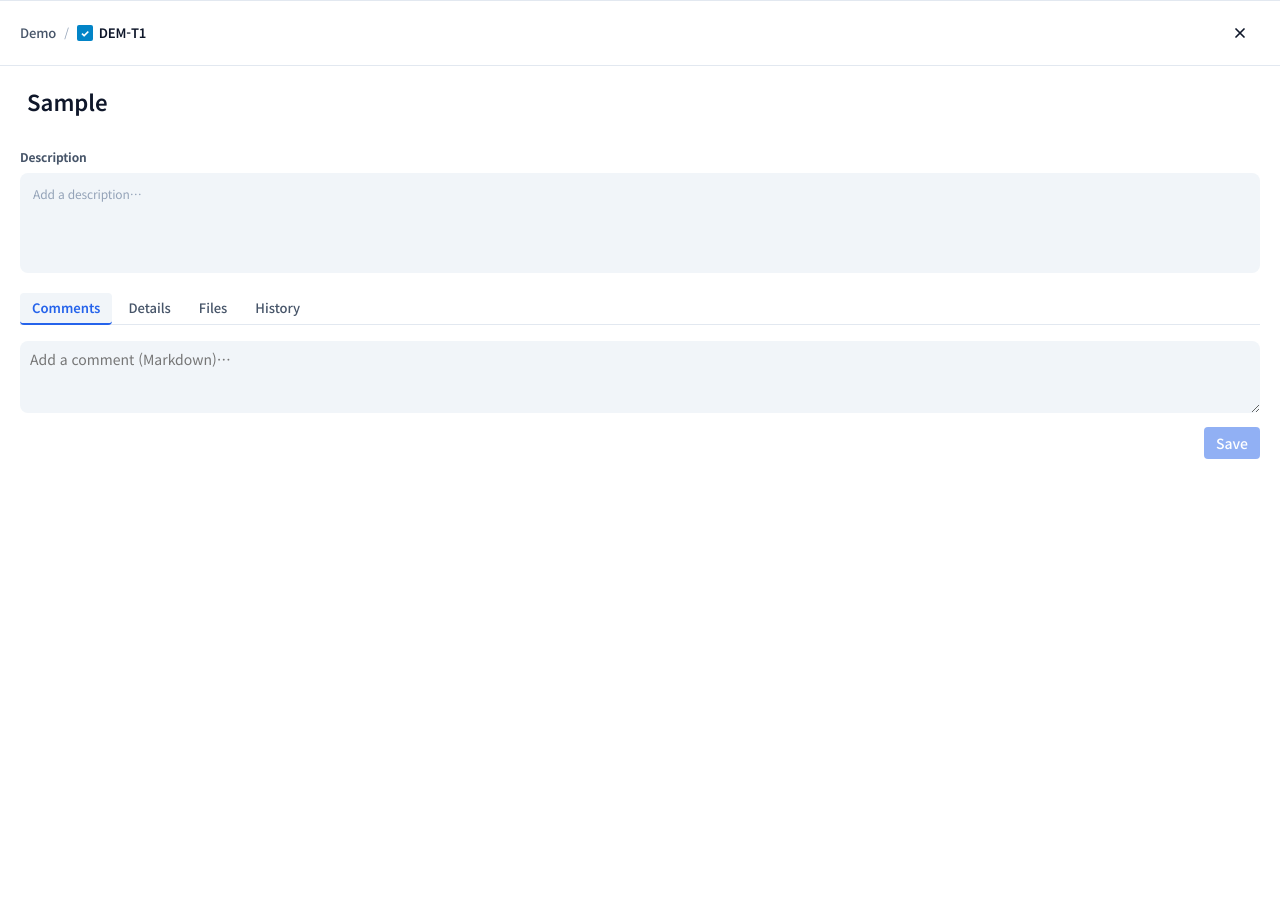
IssuePanel activity tabs › shows properties fields only on Details tab
expect the text "Assignee" is not shown: met
Click the tab "Details" at (150, 309), box [116,293,183,325]
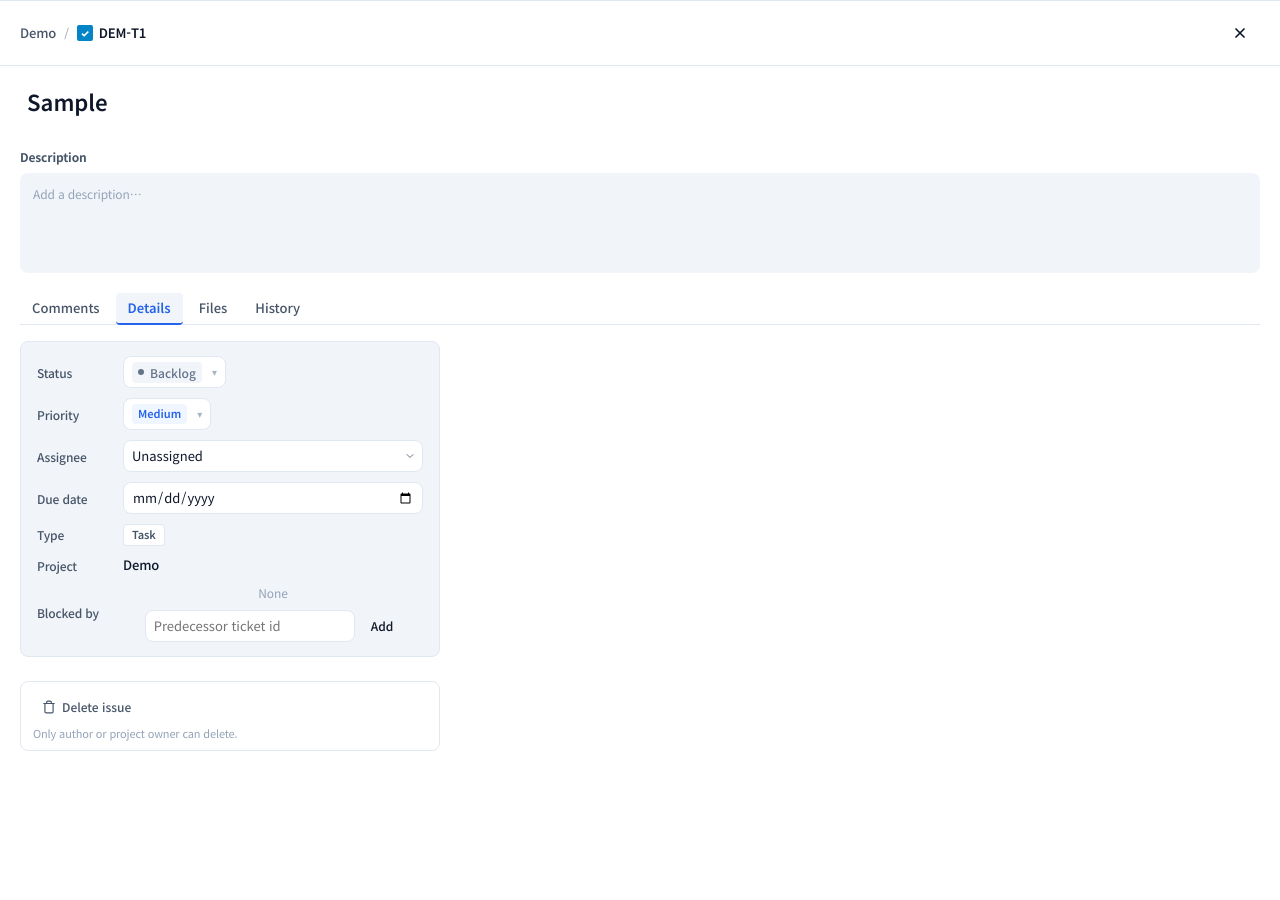
expect the text "Assignee" is shown: met, box [37,448,87,465]
expect the text "Due date" is shown: met, box [37,490,87,507]
expect the text "Priority" is shown: met, box [37,406,79,423]
